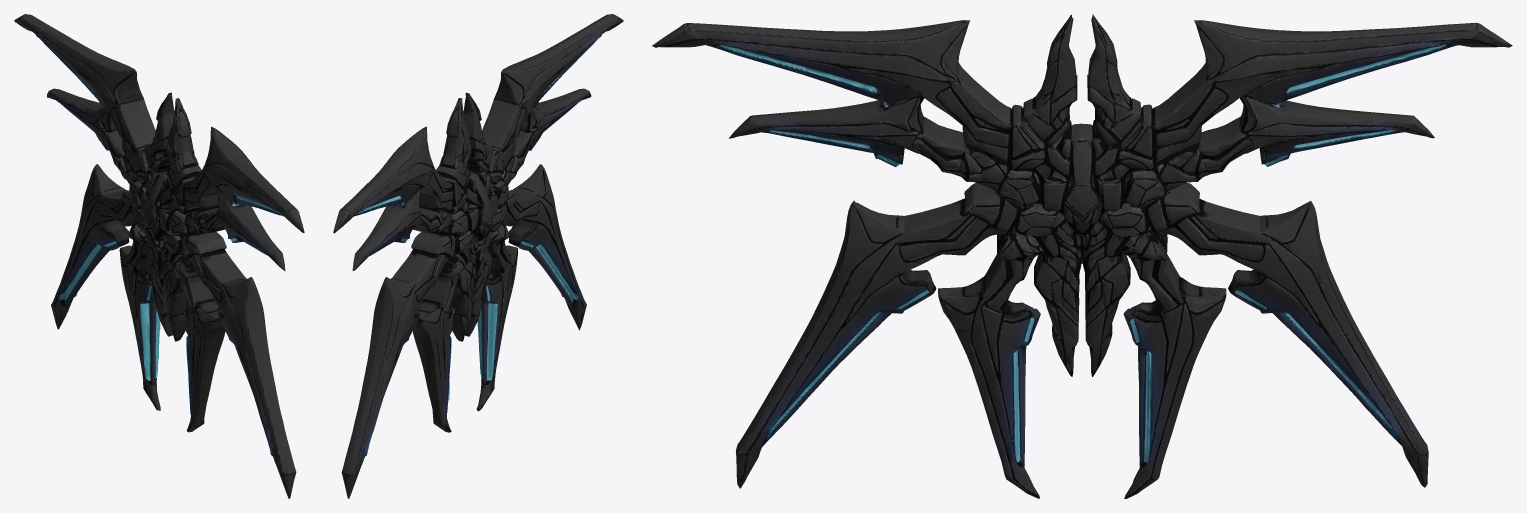
File: Boss3.glb
3 views of the same model, side by side, from view 1: azimuth 30°, elevation 25°; view 2: azimuth 150°, elevation 25°; view 3: azimuth 270°, elevation 25° (orthographic). The views are drawn at different scales.
Parts seen in each view (by area): view 1: tripo_node_4ffe2e79-bbe3-4d57-a9c2-ba265e5c7aef; view 2: tripo_node_4ffe2e79-bbe3-4d57-a9c2-ba265e5c7aef; view 3: tripo_node_4ffe2e79-bbe3-4d57-a9c2-ba265e5c7aef.
Boxes of the visible parts, bbox=[...] form: tripo_node_4ffe2e79-bbe3-4d57-a9c2-ba265e5c7aef: bbox=[14, 14, 304, 498]; tripo_node_4ffe2e79-bbe3-4d57-a9c2-ba265e5c7aef: bbox=[333, 14, 623, 498]; tripo_node_4ffe2e79-bbe3-4d57-a9c2-ba265e5c7aef: bbox=[652, 14, 1512, 498].
Bounding box in the file's own units: 0.1002 × 0.6109 × 0.9854.
Materials: 1 (1 with a texture image).
